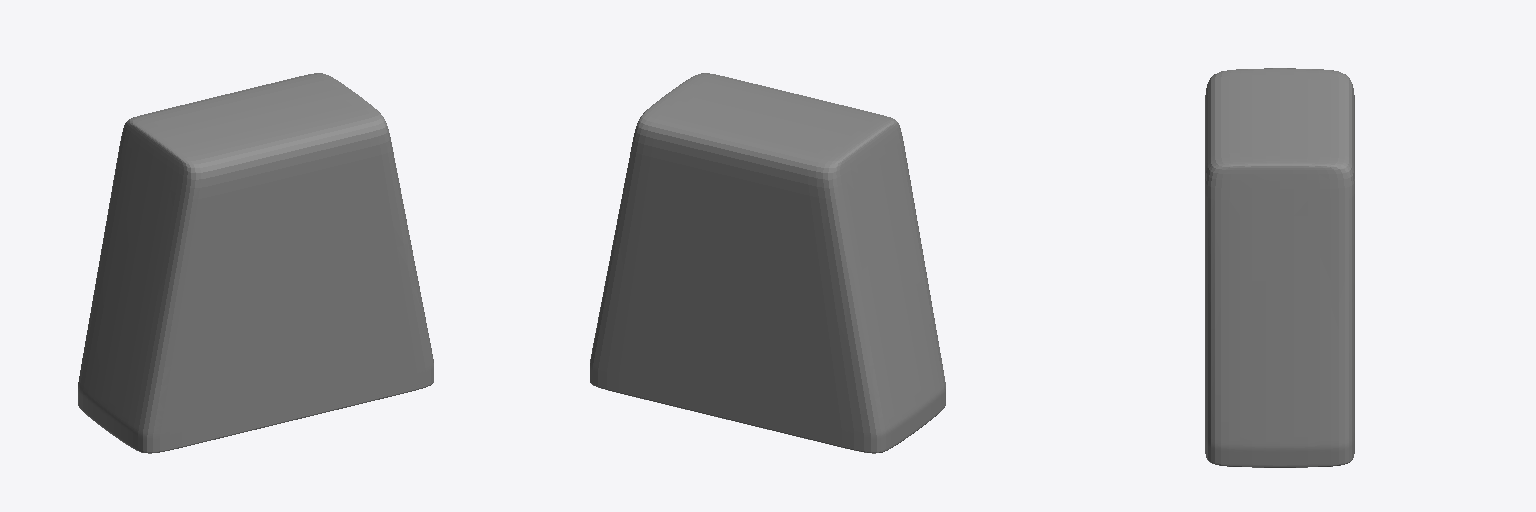
The model's file is ToraxText.obj.
3 renders of one model, left to right at view 1: azimuth 30°, elevation 25°; view 2: azimuth 150°, elevation 25°; view 3: azimuth 270°, elevation 25°, orthographic.
Parts seen in each view (by area): view 1: Torax, FrenteTorax; view 2: Torax; view 3: Torax.
Part boxes in pixels (bbox=[...]): Torax: bbox=[78, 73, 433, 453]; FrenteTorax: bbox=[218, 145, 368, 438]; Torax: bbox=[590, 73, 945, 453]; Torax: bbox=[1205, 68, 1354, 467].
Size of the model in its own units: 23.97 by 21.56 by 10.47.